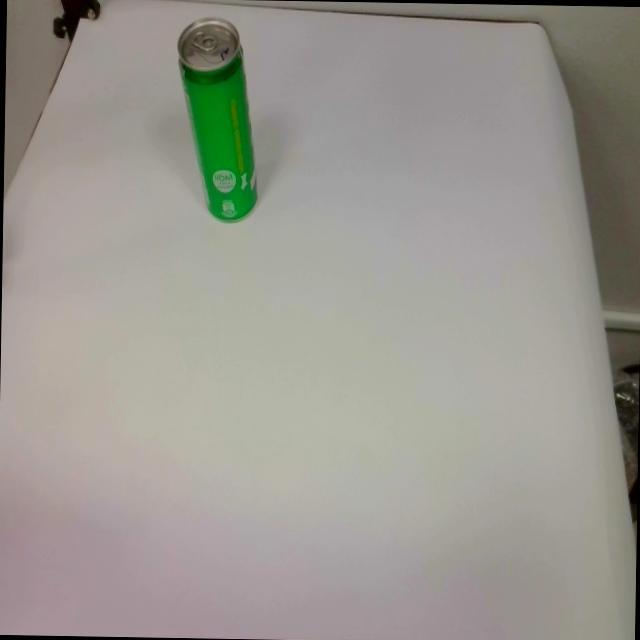debris: (172, 15, 260, 224)
